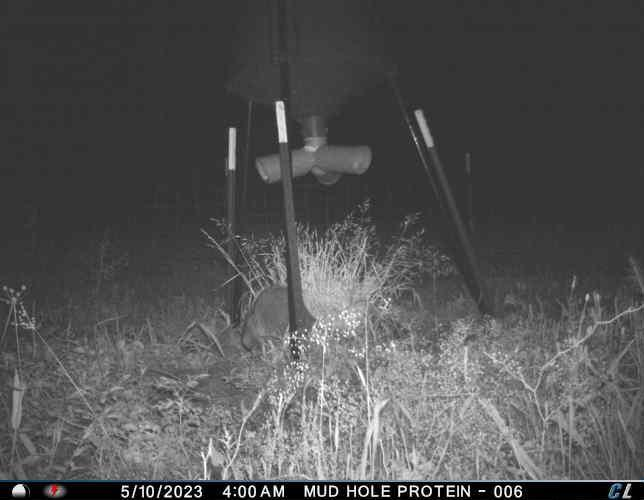Raccoon: (242, 283, 315, 352)
